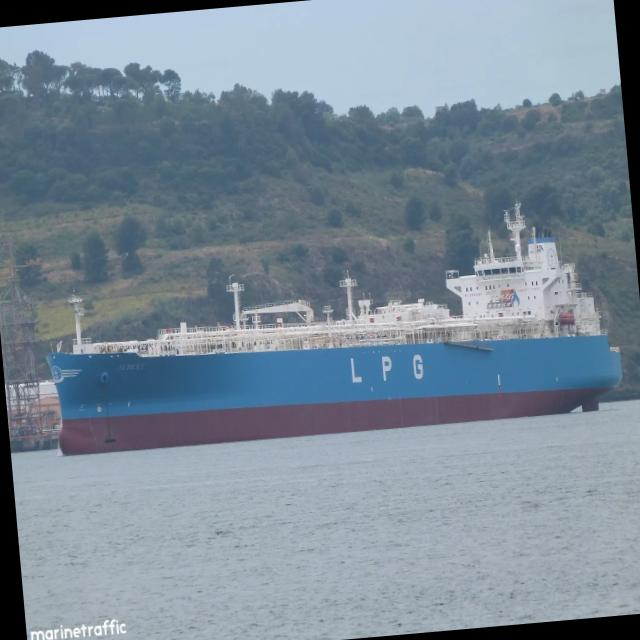Tanker: (47, 203, 621, 454)
